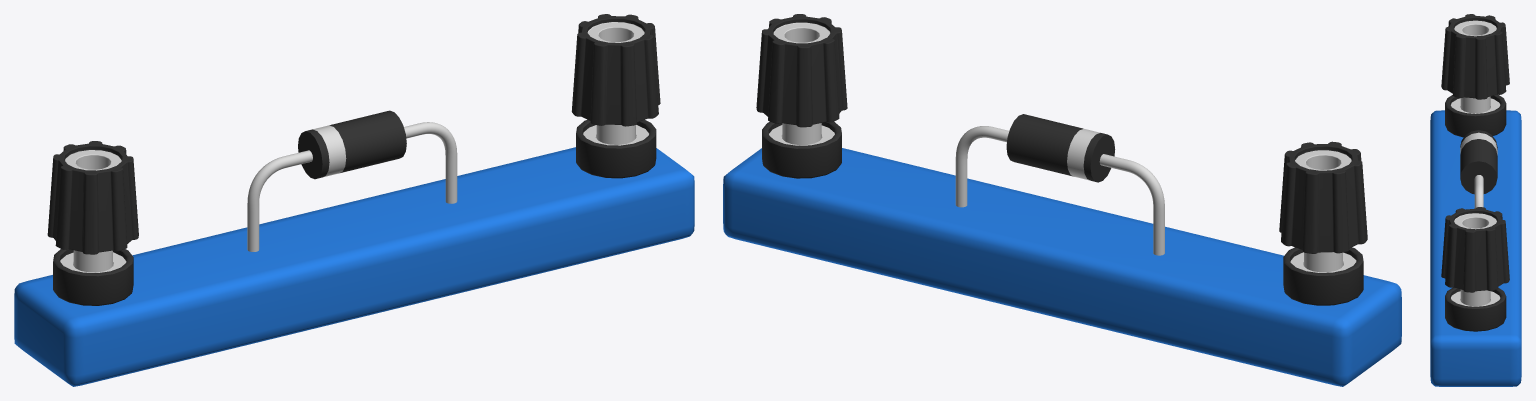
File: Diode.fbx
3 renders of one model, left to right at view 1: azimuth 30°, elevation 25°; view 2: azimuth 150°, elevation 25°; view 3: azimuth 270°, elevation 25°, orthographic. The views are drawn at different scales.
Parts seen in each view (by area): view 1: Resistor.009, Cylinder.062, Cylinder.061, Cylinder.026, BezierCurve.003; view 2: Resistor.009, Cylinder.062, Cylinder.061, Cylinder.026, BezierCurve.003; view 3: Resistor.009, Cylinder.062, Cylinder.061, Cylinder.026, BezierCurve.003.
Boxes of the visible parts, x1,y1,x2,y2 form: Resistor.009: (14,147,694,386); Cylinder.062: (47,14,660,272); Cylinder.061: (53,119,656,305); Cylinder.026: (298,110,406,179); BezierCurve.003: (247,122,457,251); Resistor.009: (723,148,1401,386); Cylinder.062: (756,14,1367,272); Cylinder.061: (762,122,1363,305); Cylinder.026: (1006,114,1115,182); BezierCurve.003: (955,126,1164,255); Resistor.009: (1430,110,1521,386); Cylinder.062: (1441,14,1509,306); Cylinder.061: (1445,94,1506,331); Cylinder.026: (1460,130,1497,194); BezierCurve.003: (1474,175,1483,208).
Bounding box in the file's own units: 236 × 71.45 × 39.32.
